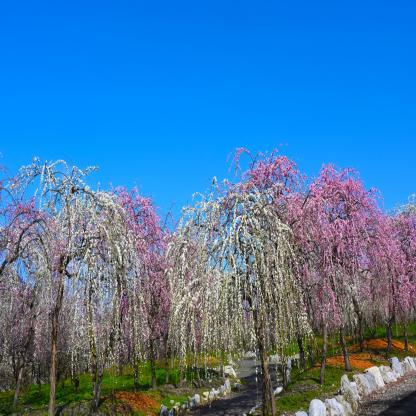Ume: (158, 145, 316, 378), (300, 163, 416, 319), (65, 164, 145, 381), (27, 144, 95, 385), (127, 183, 187, 397), (0, 147, 48, 375)
